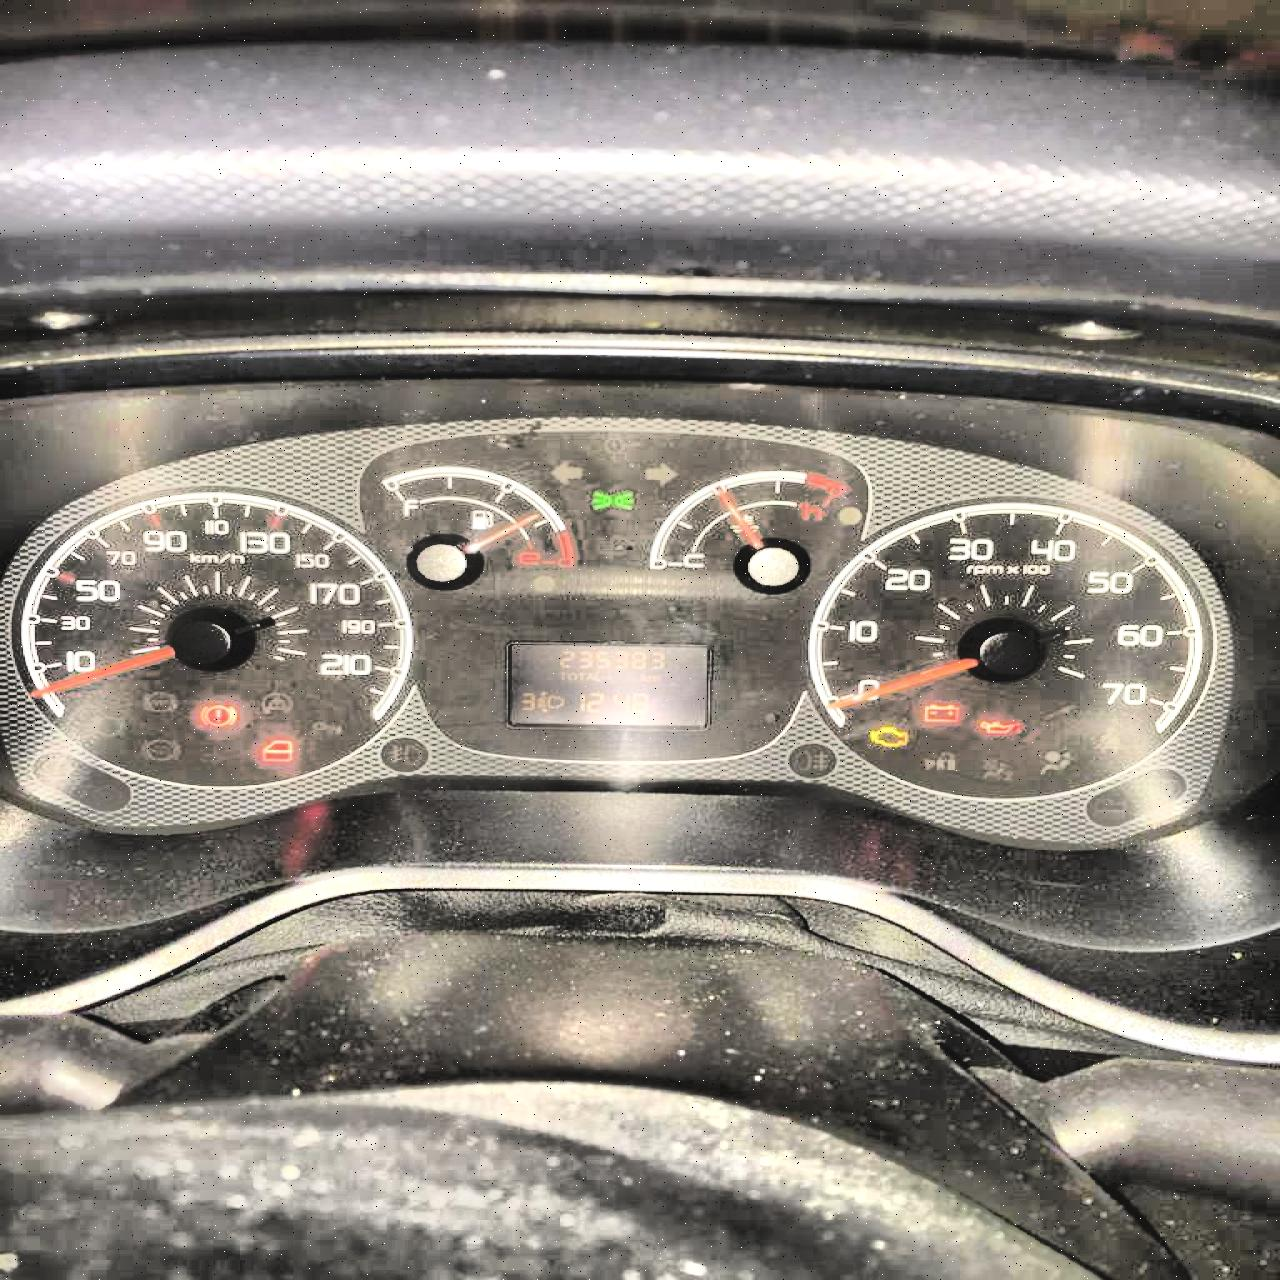1: (576, 692, 585, 713)
2: (585, 690, 601, 714), (557, 648, 573, 667)
3: (517, 690, 536, 712), (576, 648, 592, 667), (648, 651, 665, 669), (612, 651, 626, 669)
4: (610, 692, 629, 713)
6: (593, 651, 610, 669)
8: (629, 693, 648, 714), (628, 651, 645, 669)
X: (566, 670, 577, 680), (639, 670, 647, 681), (585, 670, 593, 680), (648, 674, 660, 680), (557, 670, 565, 679), (577, 670, 584, 680), (592, 670, 598, 681)
odometer: (502, 639, 713, 733)
